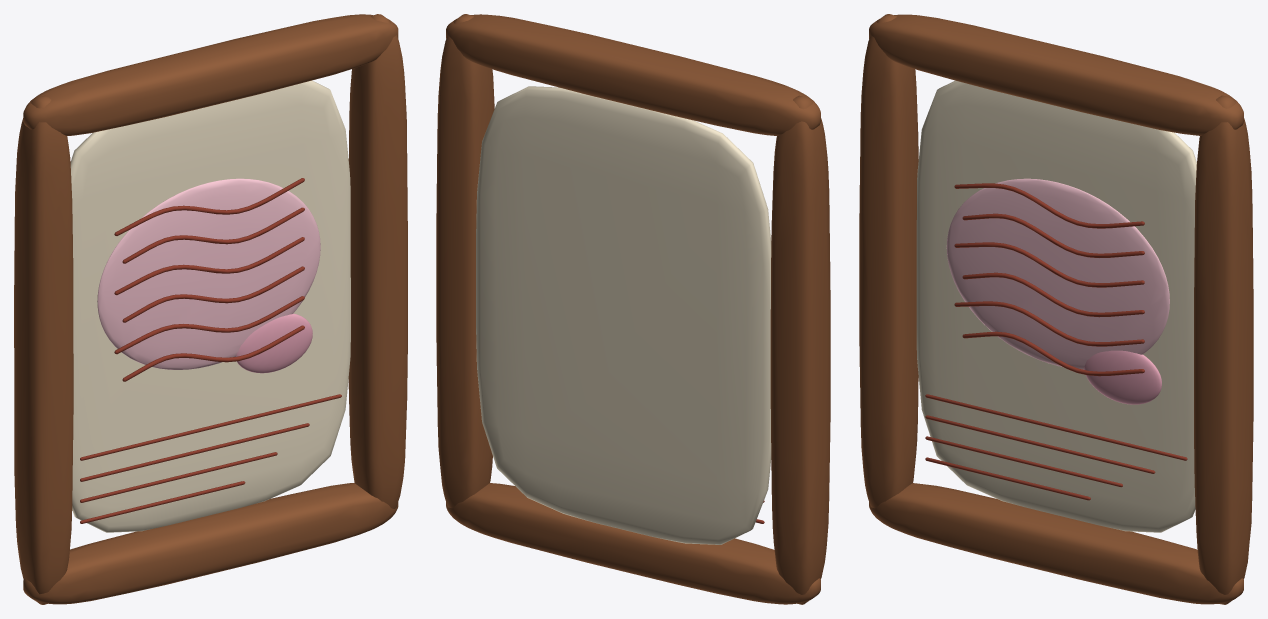
File: deco_cuadro_cerebro.glb
3 views of the same model, side by side, from view 1: azimuth 30°, elevation 25°; view 2: azimuth 150°, elevation 25°; view 3: azimuth 330°, elevation 25° (orthographic).
Visible parts, largest first — view 1: lienzo.019, cerebro lámina.001, marco vertical.038, marco vertical.039, marco horizontal.039, marco horizontal.038, cerebelo.001, renglón 0.001, giro 0.001, giro 2.001, giro 4.001, renglón 1.001 (+5 smaller); view 2: lienzo.019, marco vertical.038, marco horizontal.039, marco vertical.039, marco horizontal.038; view 3: lienzo.019, cerebro lámina.001, marco vertical.039, marco vertical.038, marco horizontal.039, marco horizontal.038, cerebelo.001, renglón 0.001, giro 2.001, giro 0.001, giro 4.001, renglón 1.001 (+5 smaller).
Part boxes in pixels (x1,y1,x2,y2): lienzo.019: [70, 80, 350, 532]; cerebro lámina.001: [97, 178, 320, 369]; marco vertical.038: [14, 95, 73, 604]; marco vertical.039: [348, 14, 407, 508]; marco horizontal.039: [23, 14, 398, 135]; marco horizontal.038: [23, 483, 398, 604]; cerebelo.001: [235, 313, 312, 373]; renglón 0.001: [80, 394, 341, 460]; giro 0.001: [114, 178, 304, 235]; giro 2.001: [114, 237, 304, 295]; giro 4.001: [114, 296, 304, 354]; renglón 1.001: [80, 423, 309, 481]; lienzo.019: [476, 86, 771, 544]; marco vertical.038: [770, 95, 830, 604]; marco horizontal.039: [446, 14, 820, 135]; marco vertical.039: [436, 14, 494, 508]; marco horizontal.038: [446, 483, 820, 604]; lienzo.019: [916, 80, 1196, 532]; cerebro lámina.001: [946, 178, 1169, 369]; marco vertical.039: [1194, 95, 1253, 604]; marco vertical.038: [859, 14, 918, 508]; marco horizontal.039: [869, 14, 1243, 135]; marco horizontal.038: [869, 483, 1243, 604]; cerebelo.001: [1084, 350, 1161, 404]; renglón 0.001: [925, 394, 1187, 460]; giro 2.001: [954, 242, 1144, 287]; giro 0.001: [954, 183, 1144, 228]; giro 4.001: [954, 301, 1144, 346]; renglón 1.001: [925, 415, 1155, 473].
Bounding box in the file's own units: 0.4698 × 0.6096 × 0.0599.
